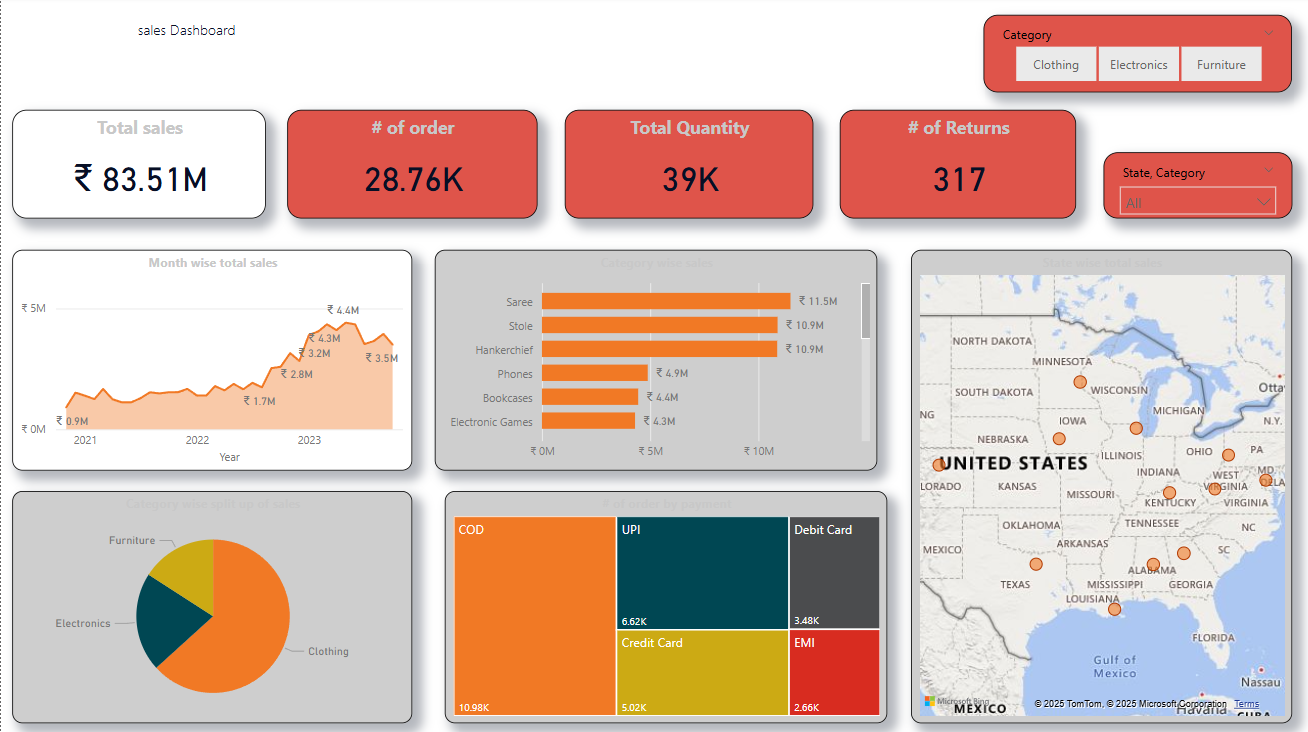

The page's visual inventory and layout, read from the dashboard file:
{"tool":"powerbi","page":{"name":"Page 1","canvas":[1280,720],"ordinal":0},"visuals":[{"type":"card","title":"Total sales","fields":{"Values":["Sum(Dataset.Total sales)"]},"box":[11,111.2,248.1,106.3],"z":0},{"type":"card","title":"# of order","fields":{"Values":["CountNonNull(Dataset.Order ID)"]},"box":[279.9,111.2,244.5,106.3],"z":1000},{"type":"card","title":"Total Quantity","fields":{"Values":["Sum(Dataset.Net quantity)"]},"box":[551.3,111.2,243.3,106.3],"z":2000},{"type":"card","title":"# of Returns","fields":{"Values":["Sum(Dataset.Returns)"]},"box":[820.2,111.2,231,106.3],"z":3000},{"type":"areaChart","title":"Month wise total sales","fields":{"Category":["Dataset.Date.Variation.Date Hierarchy.Year","Dataset.Date.Variation.Date Hierarchy.Month"],"Y":["Sum(Dataset.Total sales)"]},"box":[11,248.1,391.2,216.4],"z":4000},{"type":"pieChart","title":"Category wise split up of sales","fields":{"Category":["Dataset.Category"],"Y":["Sum(Dataset.Total sales)"]},"box":[11,484.1,391.2,227.4],"z":5000},{"type":"clusteredBarChart","title":"Category wise sales","fields":{"Category":["Dataset.Sub-Category"],"Y":["Sum(Dataset.Total sales)"]},"box":[424.2,248.1,432.7,216.4],"z":6000},{"type":"treemap","title":"# of order by payment","fields":{"Group":["Dataset.PaymentMode"],"Values":["CountNonNull(Dataset.Order ID)"]},"box":[434,484,433,227],"z":7000},{"type":"map","title":"State wise total sales","fields":{"Size":["Sum(Dataset.Total sales)"],"Category":["Dataset.Shipping"]},"box":[889.9,248.1,372.8,463.3],"z":8000},{"type":"slicer","fields":{"Values":["Dataset.Category"]},"box":[960.8,18.3,301.9,75.8],"z":9000},{"type":"slicer","fields":{"Values":["Dataset.State","Dataset.Category"]},"box":[1078.2,152.8,184.6,64.8],"z":10000},{"type":"textbox","box":[31.8,18.3,299.5,37.9],"z":11000}]}

Visuals, with their boxes in screenshot pixels (x1, y1, x2, y2), scaled from the page's 1280x720 canvas onto the 1308x732 screenshot:
"Total sales" card: x1=11, y1=113, x2=265, y2=221
"# of order" card: x1=286, y1=113, x2=536, y2=221
"Total Quantity" card: x1=563, y1=113, x2=812, y2=221
"# of Returns" card: x1=838, y1=113, x2=1074, y2=221
"Month wise total sales" areaChart: x1=11, y1=252, x2=411, y2=472
"Category wise split up of sales" pieChart: x1=11, y1=492, x2=411, y2=723
"Category wise sales" clusteredBarChart: x1=433, y1=252, x2=876, y2=472
"# of order by payment" treemap: x1=443, y1=492, x2=886, y2=723
"State wise total sales" map: x1=909, y1=252, x2=1290, y2=723
slicer - Dataset.Category: x1=982, y1=19, x2=1290, y2=96
slicer - Dataset.State x Dataset.Category: x1=1102, y1=155, x2=1290, y2=221
textbox: x1=32, y1=19, x2=339, y2=57
